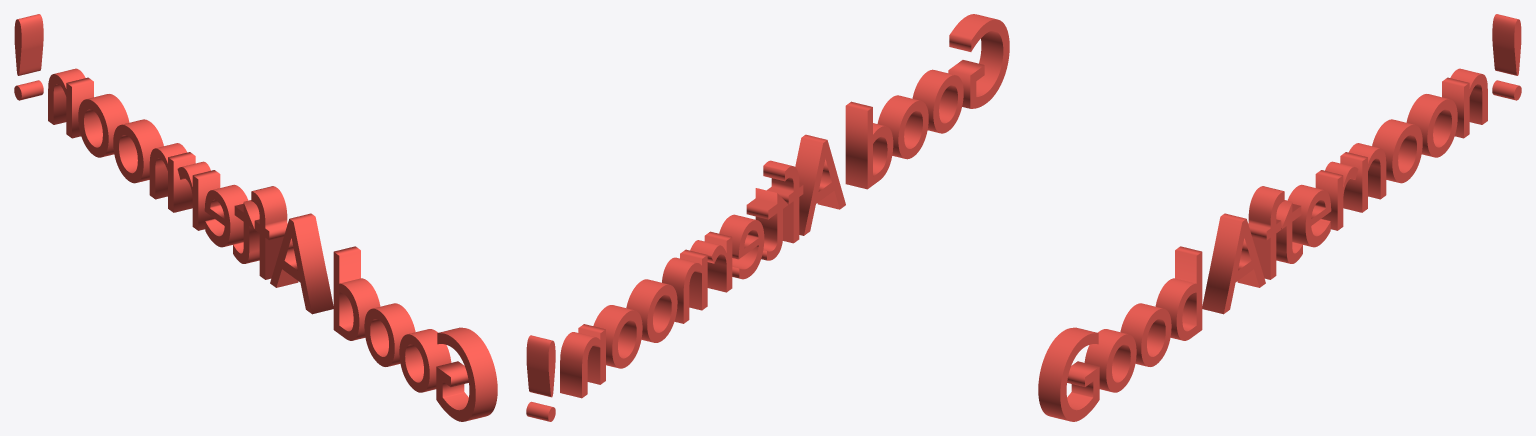
Rendered from goodafternoon.glb.
3 views of the same model, side by side, from view 1: azimuth 30°, elevation 25°; view 2: azimuth 150°, elevation 25°; view 3: azimuth 330°, elevation 25° (orthographic).
Visible parts, largest first — view 1: 文本; view 2: 文本; view 3: 文本.
Boxes of the visible parts, left/top/right/bottom form: 文本: left=14, top=14, right=497, bottom=421; 文本: left=526, top=14, right=1009, bottom=421; 文本: left=1038, top=14, right=1521, bottom=421.
Size of the model in its own units: 0.2 by 0.7004 by 7.29.
